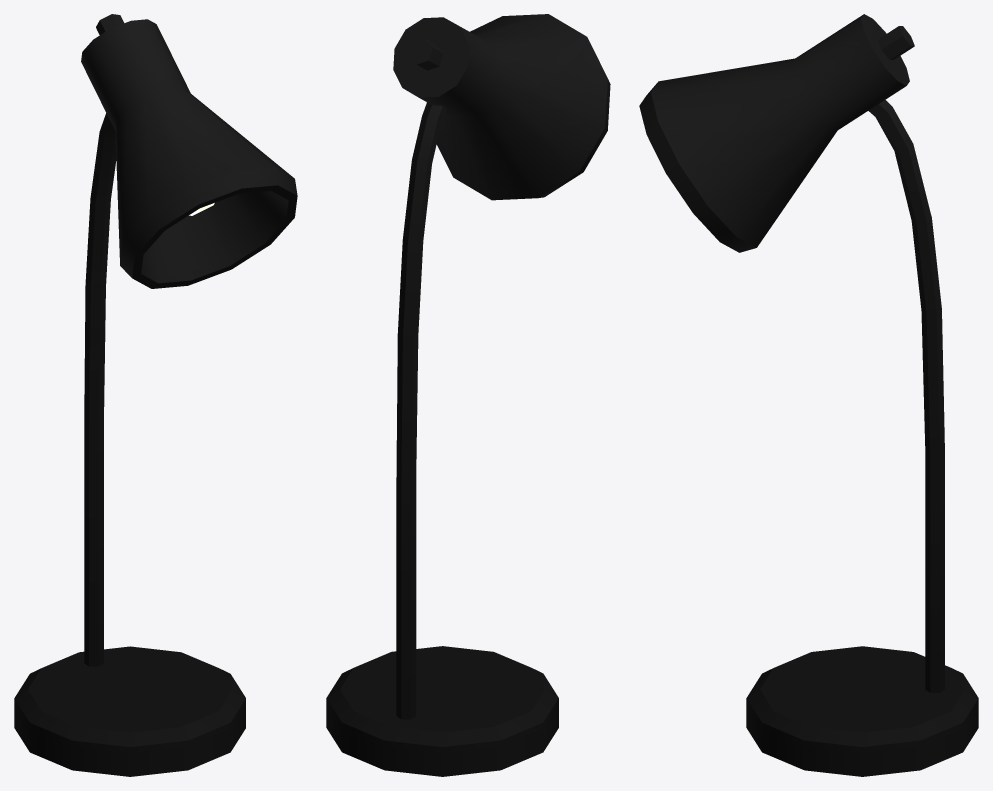
File: Lamp_Conical_Tall.fbx
3 renders of one model, left to right at view 1: azimuth 30°, elevation 25°; view 2: azimuth 150°, elevation 25°; view 3: azimuth 270°, elevation 25°, orthographic.
Parts seen in each view (by area): view 1: Lamp_Conical_Tall; view 2: Lamp_Conical_Tall; view 3: Lamp_Conical_Tall.
Part boxes in pixels (<box>): Lamp_Conical_Tall: <box>14,14,297,776</box>; Lamp_Conical_Tall: <box>326,14,610,776</box>; Lamp_Conical_Tall: <box>639,14,978,776</box>.
Size of the model in its own units: 23.59 by 79.49 by 34.47.
